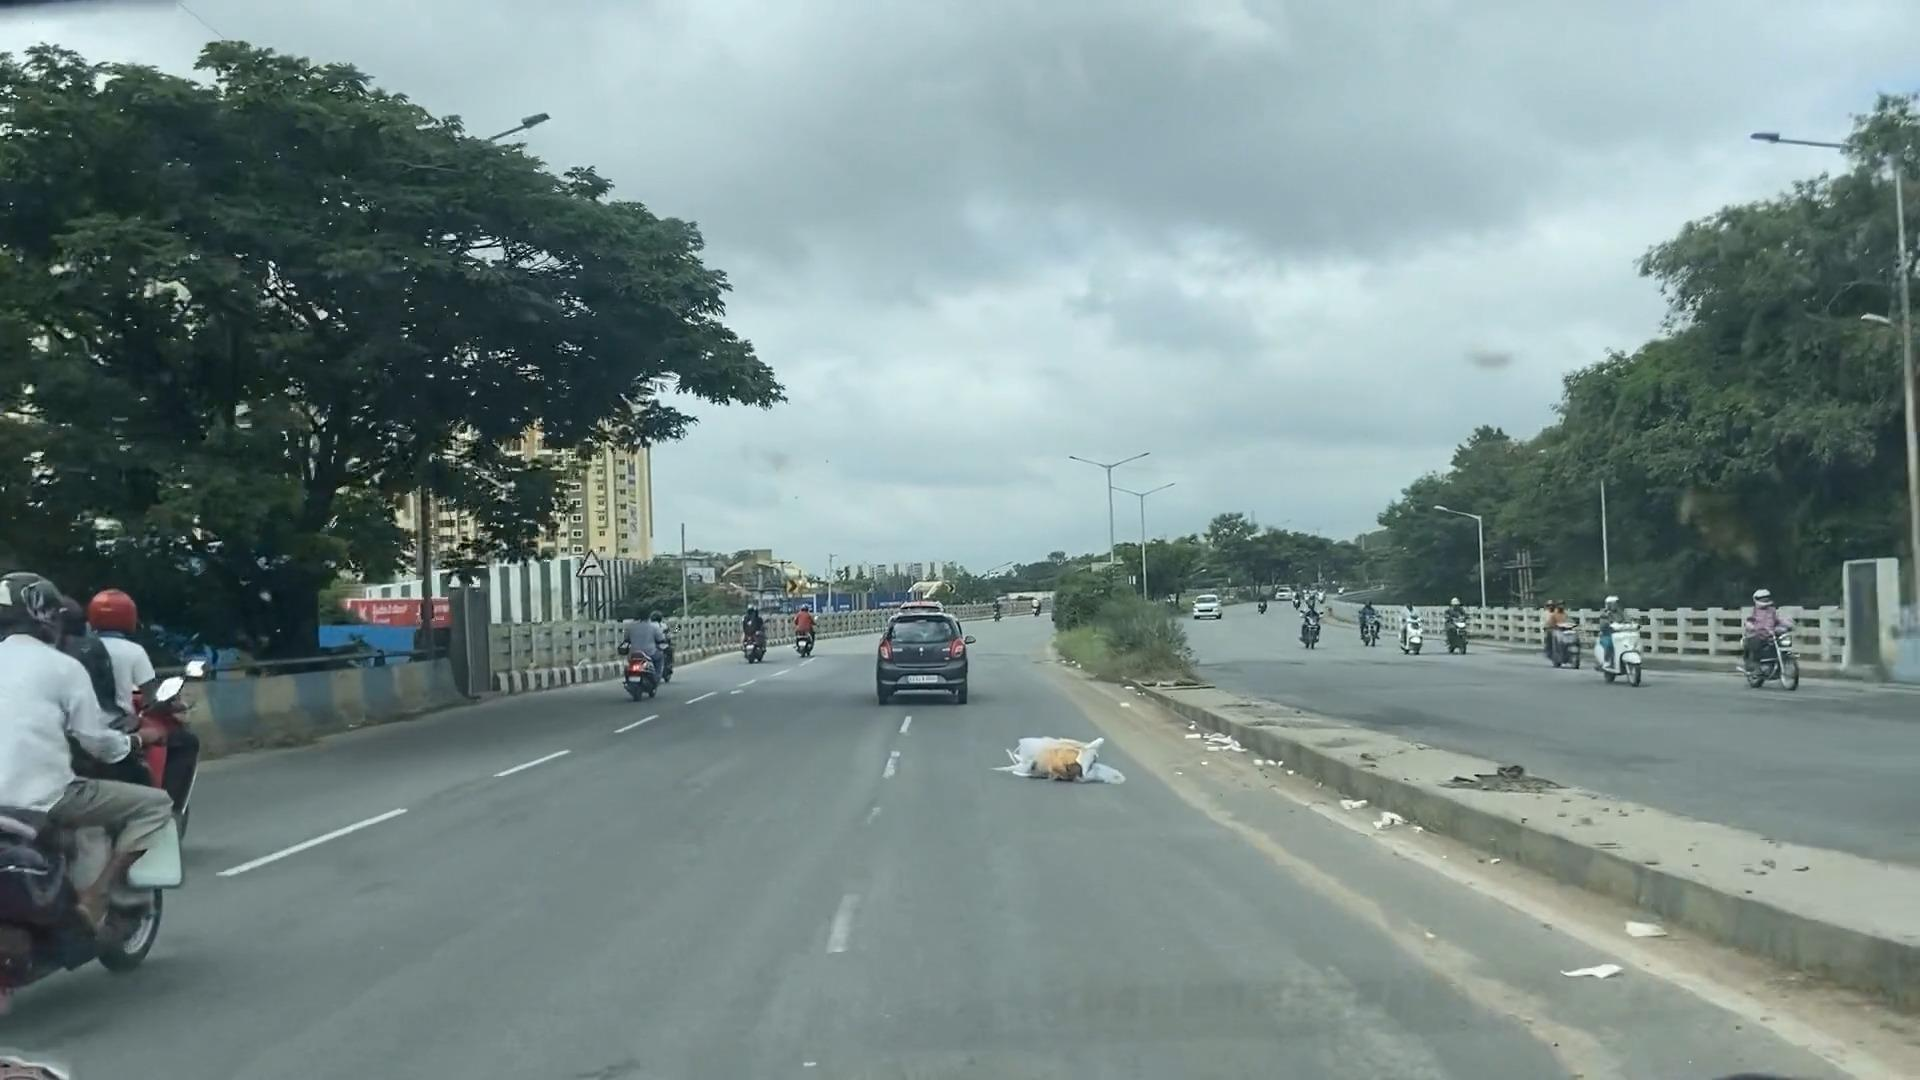LMV: (4, 584, 149, 916), (880, 615, 964, 699), (620, 611, 665, 688), (736, 603, 773, 657), (789, 603, 816, 657)
RoadDamages: (1276, 942, 1425, 1069), (1236, 866, 1447, 920), (1095, 713, 1196, 793), (1478, 972, 1564, 1064)
